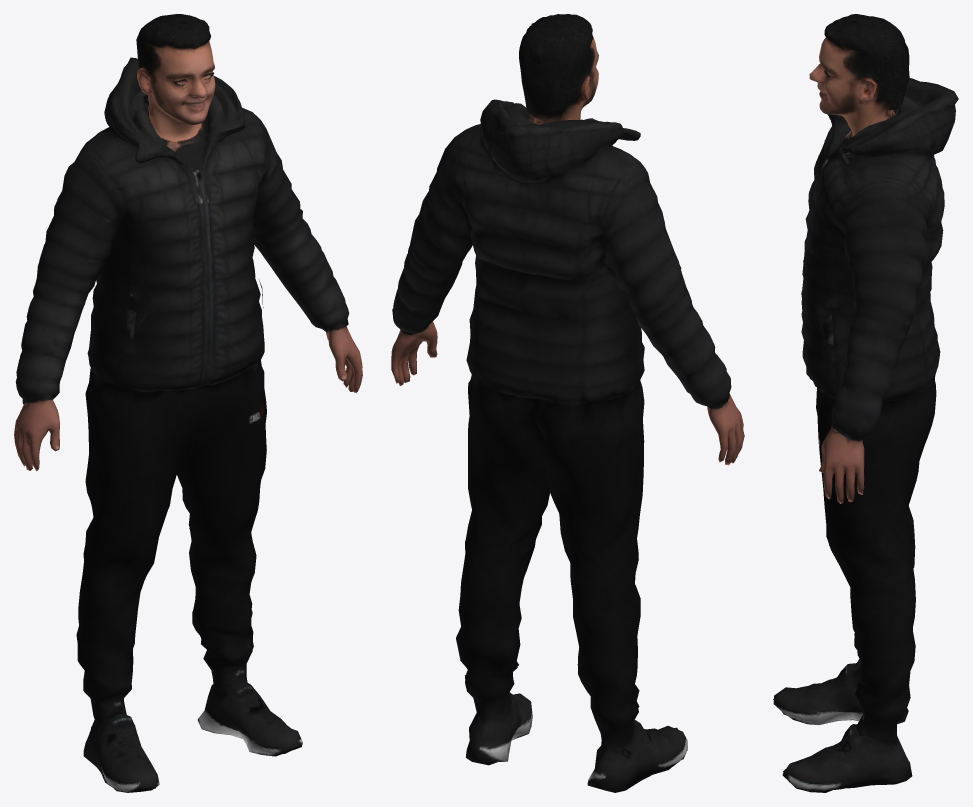
Rendered from ali-eslam.glb.
3 renders of one model, left to right at view 1: azimuth 30°, elevation 25°; view 2: azimuth 150°, elevation 25°; view 3: azimuth 270°, elevation 25°, orthographic.
Visible parts, largest first — view 1: body; view 2: body; view 3: body.
Part boxes in pixels (left/top/right/bottom): body: left=14, top=14, right=362, bottom=792; body: left=391, top=14, right=744, bottom=792; body: left=773, top=14, right=958, bottom=792.
Size of the model in its own units: 0.8687 by 1.8 by 0.4152.
1 material, 1 textured.
